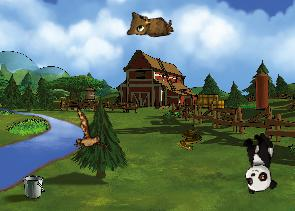eagle: (57, 105, 116, 162)
owl: (124, 6, 174, 40)
panda: (239, 131, 278, 194)
